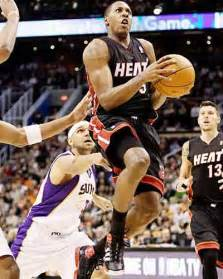basketball: (150, 52, 196, 98)
